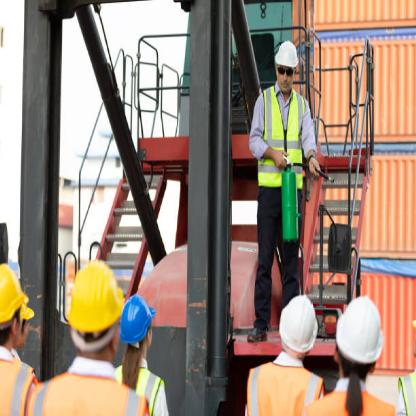bota: (245, 322, 269, 346)
capacete: (61, 258, 126, 334), (333, 295, 392, 366), (275, 292, 321, 357), (117, 294, 163, 348), (0, 254, 32, 324), (273, 37, 301, 72)
